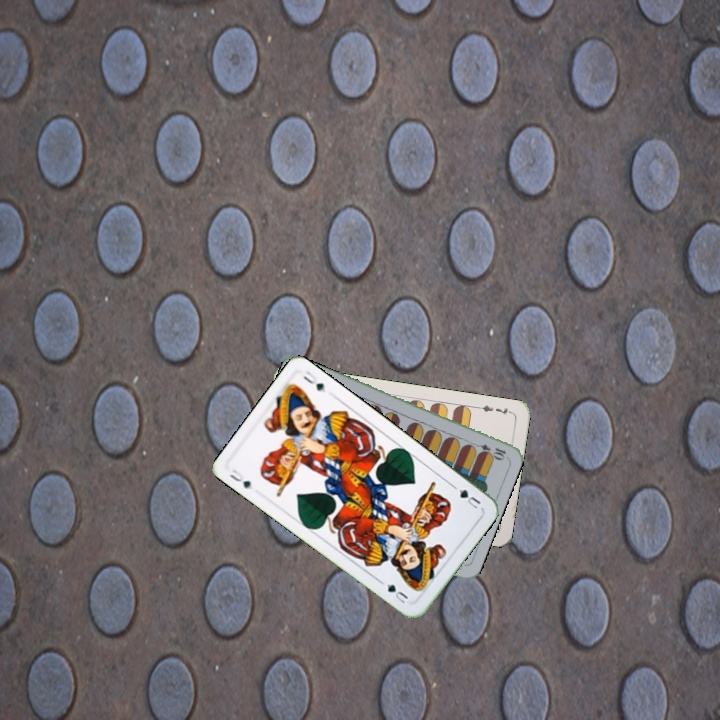E10: (468, 439, 508, 461)
E7: (474, 401, 515, 418)
GU: (226, 465, 255, 492), (455, 485, 483, 511)
